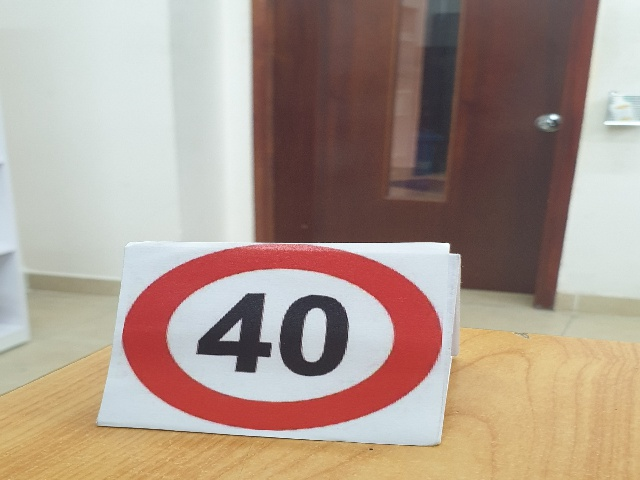Limit 40: (130, 245, 443, 430)
